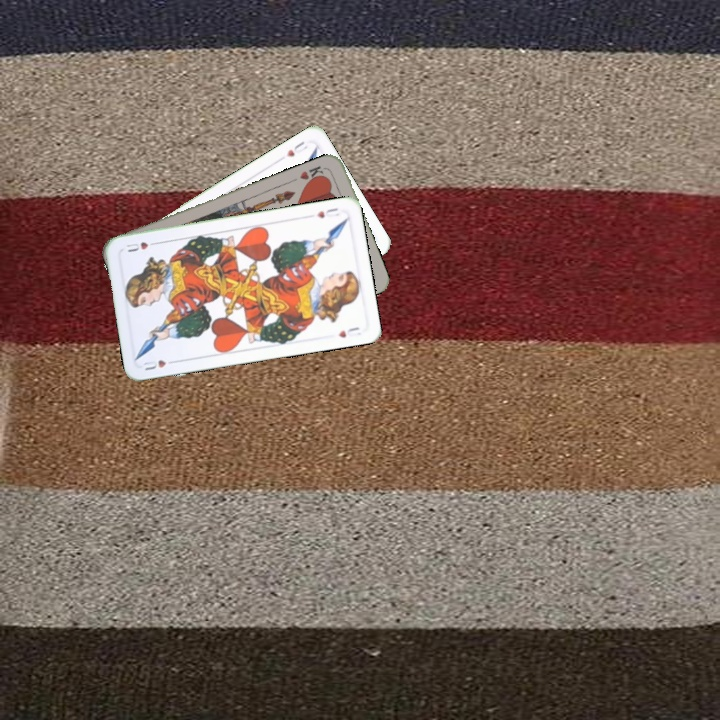HK: (296, 162, 330, 186)
HU: (139, 355, 179, 373), (282, 137, 310, 159), (312, 204, 342, 221)
